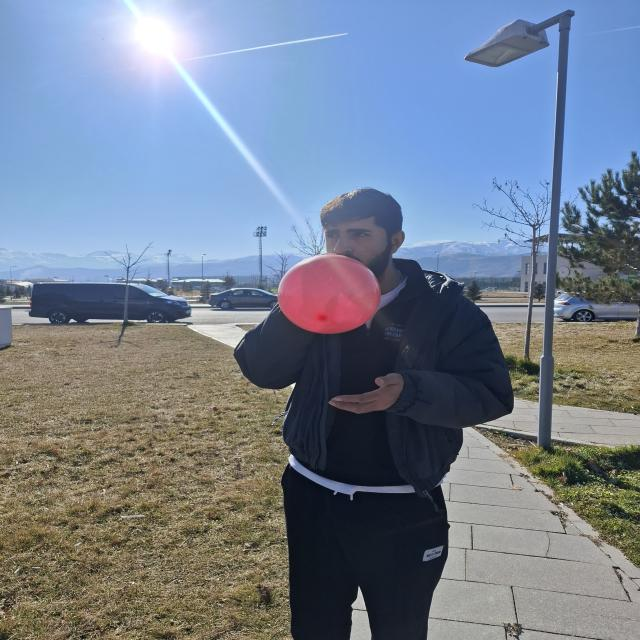balloon: (278, 254, 380, 334)
